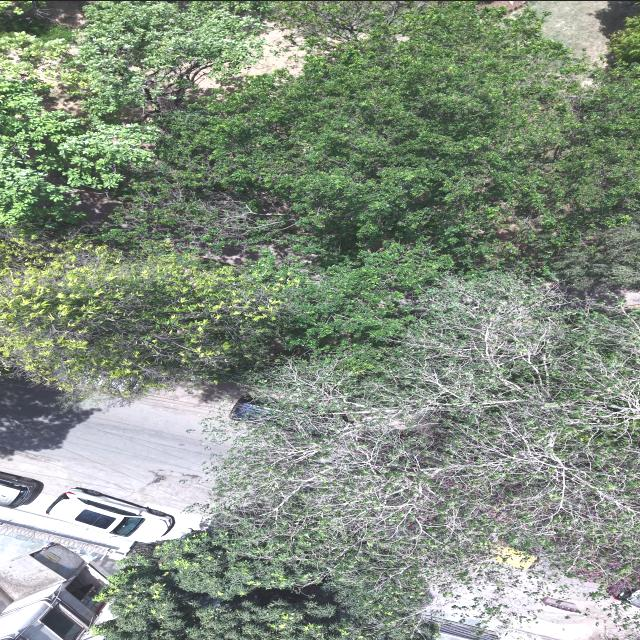DRY_AREA: (490, 1, 639, 63)
VEGETATION_TREE: (0, 1, 639, 639), (3, 1, 638, 396), (208, 274, 638, 629), (123, 3, 638, 269), (0, 237, 441, 399), (0, 239, 297, 398), (0, 32, 156, 227), (94, 533, 349, 639), (77, 1, 266, 115), (158, 533, 318, 599), (268, 1, 426, 48), (0, 1, 71, 39), (609, 16, 639, 63)
